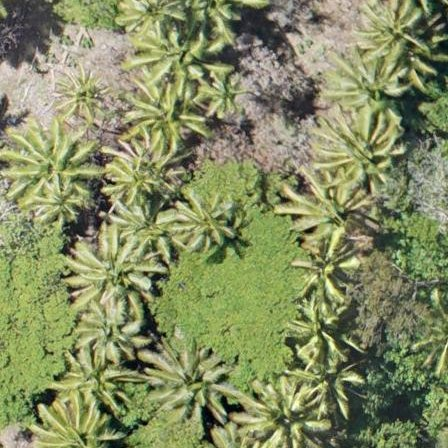palm_tree: (1, 115, 96, 219), (66, 221, 153, 314), (320, 101, 409, 189), (151, 341, 237, 423), (241, 371, 325, 448), (52, 346, 137, 414), (286, 233, 361, 303), (330, 49, 405, 115), (103, 136, 169, 208), (286, 303, 358, 365), (125, 86, 199, 146), (71, 301, 140, 361), (176, 194, 236, 258), (53, 66, 109, 119), (116, 1, 183, 45)
